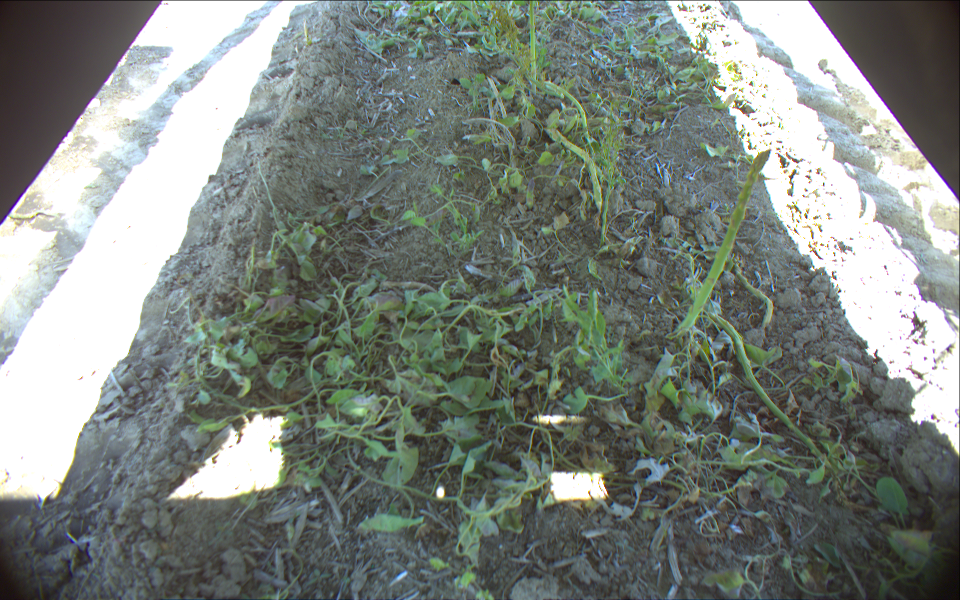aspa: (671, 146, 773, 342), (523, 1, 540, 96)
